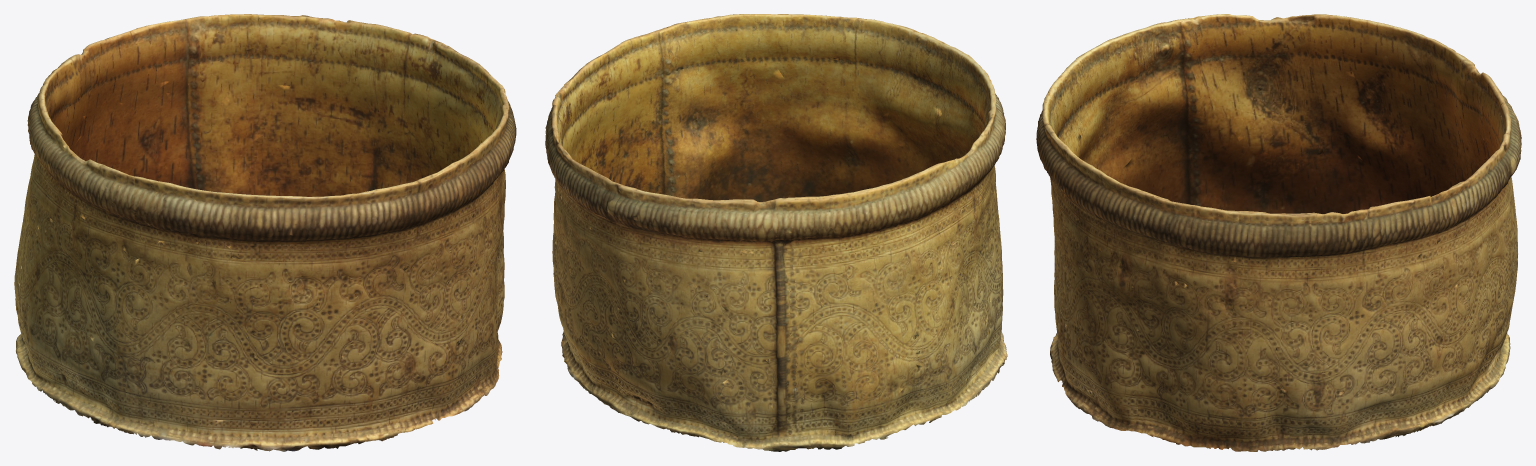
File: saar_chabychakh_m.FBX
3 renders of one model, left to right at view 1: azimuth 30°, elevation 25°; view 2: azimuth 150°, elevation 25°; view 3: azimuth 270°, elevation 25°, orthographic. The views are drawn at different scales.
Visible parts, largest first — view 1: default; view 2: default; view 3: default.
Part boxes in pixels (bbox=[...]): default: bbox=[14, 14, 516, 451]; default: bbox=[545, 14, 1007, 451]; default: bbox=[1036, 14, 1521, 451].
Bounding box in the file's own units: 362 × 212 × 361.
